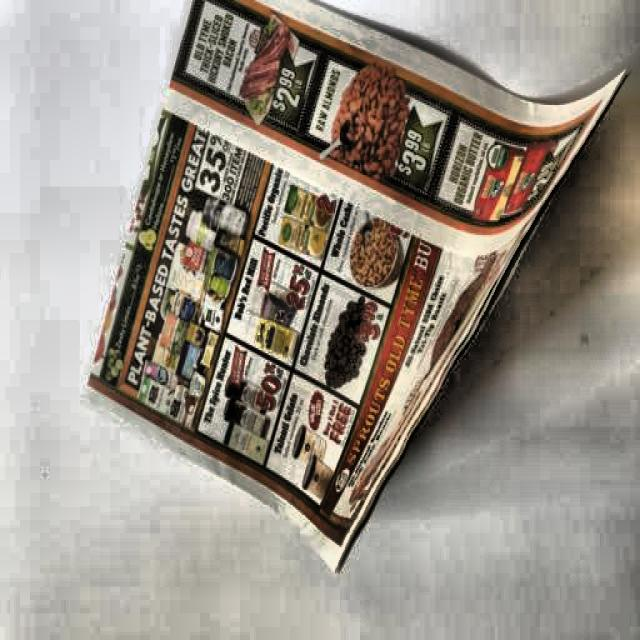paper: (100, 0, 617, 579)
